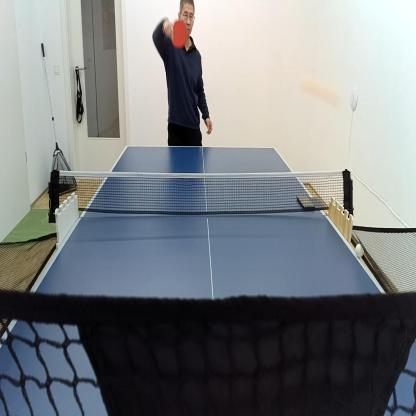Ball: (302, 74, 334, 101), (355, 243, 364, 258)
